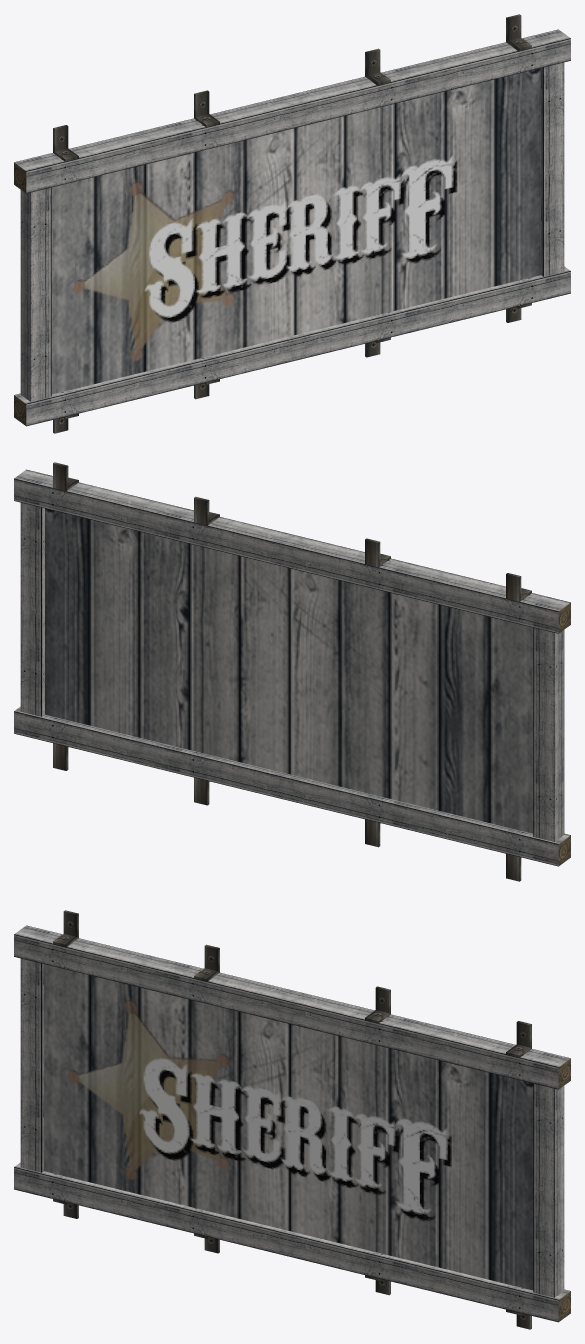
The model's file is signs-06.fbx.
3 views of the same model, one above another, from view 1: azimuth 30°, elevation 25°; view 2: azimuth 150°, elevation 25°; view 3: azimuth 330°, elevation 25° (orthographic).
Parts seen in each view (by area): view 1: Cube.133; view 2: Cube.133; view 3: Cube.133.
Part boxes in pixels (x1,y1,x2,y2): Cube.133: (14,14,570,433); Cube.133: (14,462,570,881); Cube.133: (14,910,570,1329).
Bounding box in the file's own units: 2.45 × 1.31 × 0.096.
